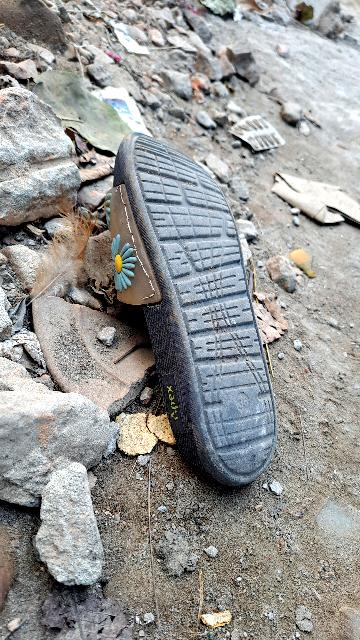sandal: (90, 103, 313, 511)
